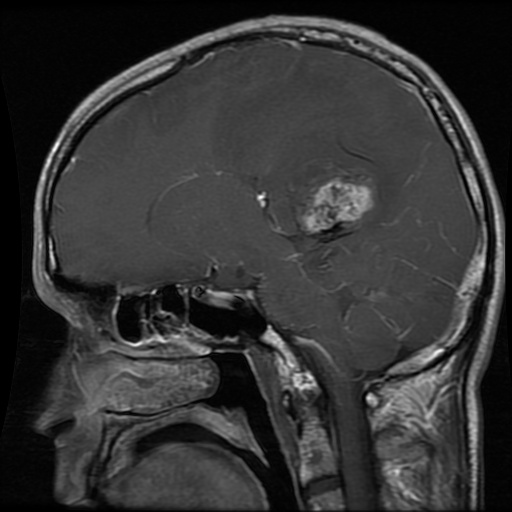glioma: (296, 165, 383, 244)
